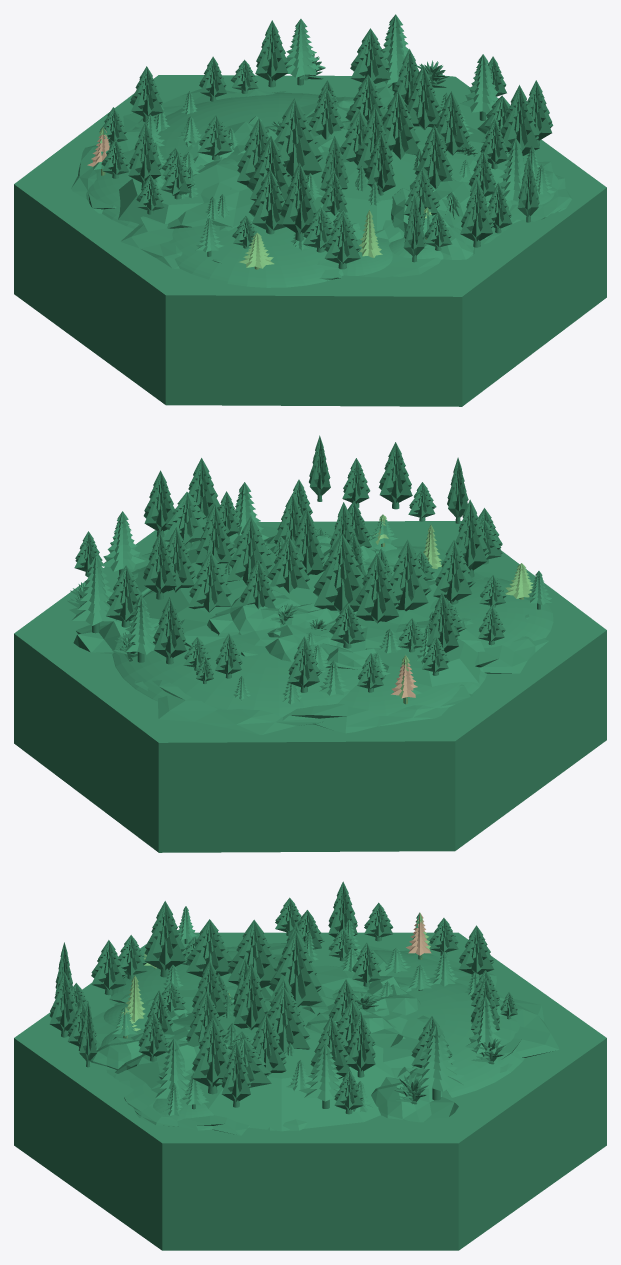
File: forest_3.glb
3 renders of one model, top to bottom at view 1: azimuth 30°, elevation 25°; view 2: azimuth 150°, elevation 25°; view 3: azimuth 270°, elevation 25°, orthographic. The views are drawn at different scales.
Parts seen in each view (by area): view 1: Mesh_Mesh_head_geo.001_lambert2SG.001; view 2: Mesh_Mesh_head_geo.001_lambert2SG.001; view 3: Mesh_Mesh_head_geo.001_lambert2SG.001.
Part boxes in pixels (<box>): Mesh_Mesh_head_geo.001_lambert2SG.001: <box>14,14,606,406</box>; Mesh_Mesh_head_geo.001_lambert2SG.001: <box>14,435,606,852</box>; Mesh_Mesh_head_geo.001_lambert2SG.001: <box>14,881,606,1250</box>.
Bounding box in the file's own units: 84 × 38 × 100.
